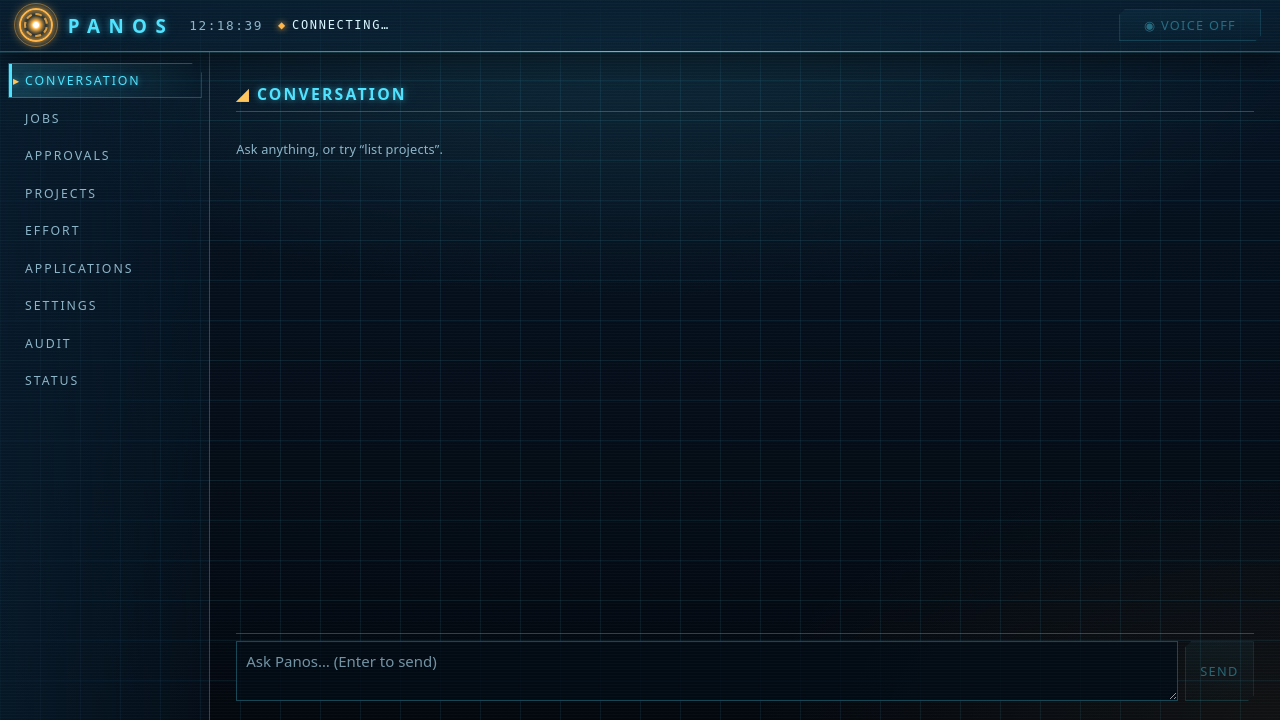
Test case: [FR-002] conversation › streams the answer and shows model, locality and privacy
The width and height of the screenshot is (1280, 720).
Type "γεια" into the text box labelled "Ask Panos… (Enter to send)" at (707, 671), box top-left (236, 641), bottom-right (1178, 701)
Then press Enter
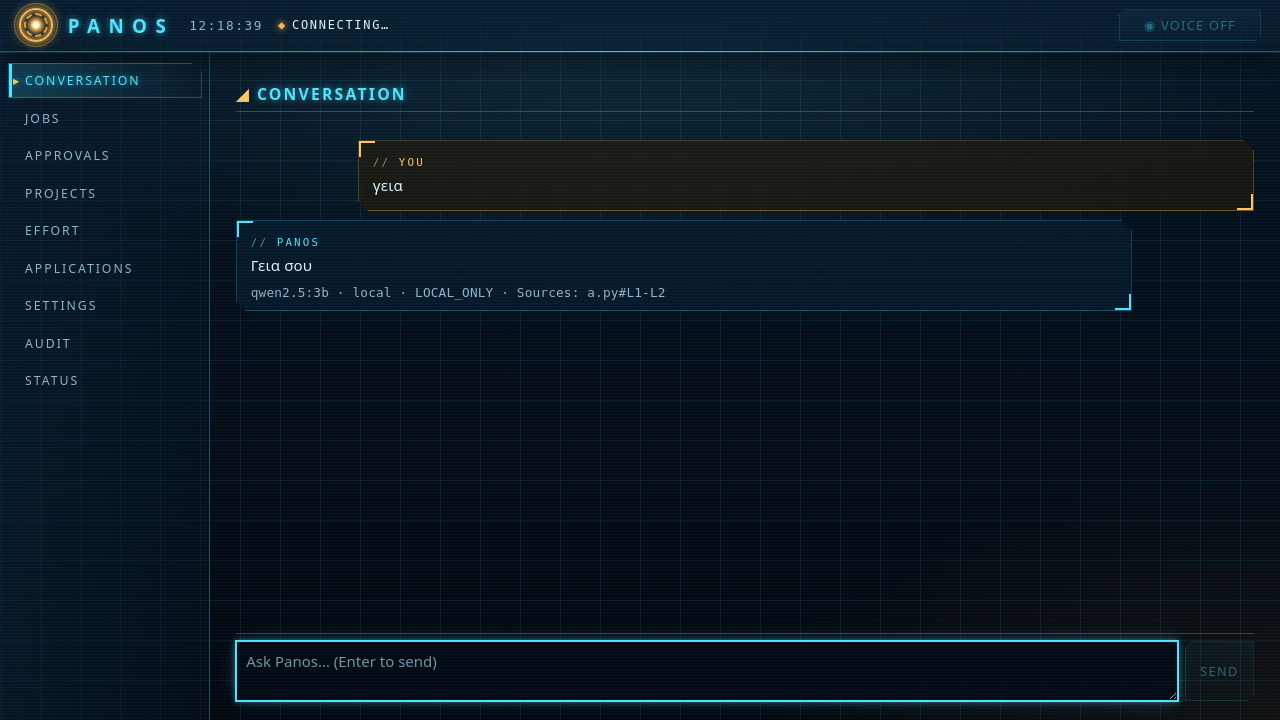
expect the text "Γεια σου" is shown: met, box top-left (251, 255), bottom-right (312, 275)
expect the text "qwen2.5:3b · local · LOCAL_ONLY · Sources: a.py#L1-L2" is shown: met, box top-left (251, 285), bottom-right (666, 300)
